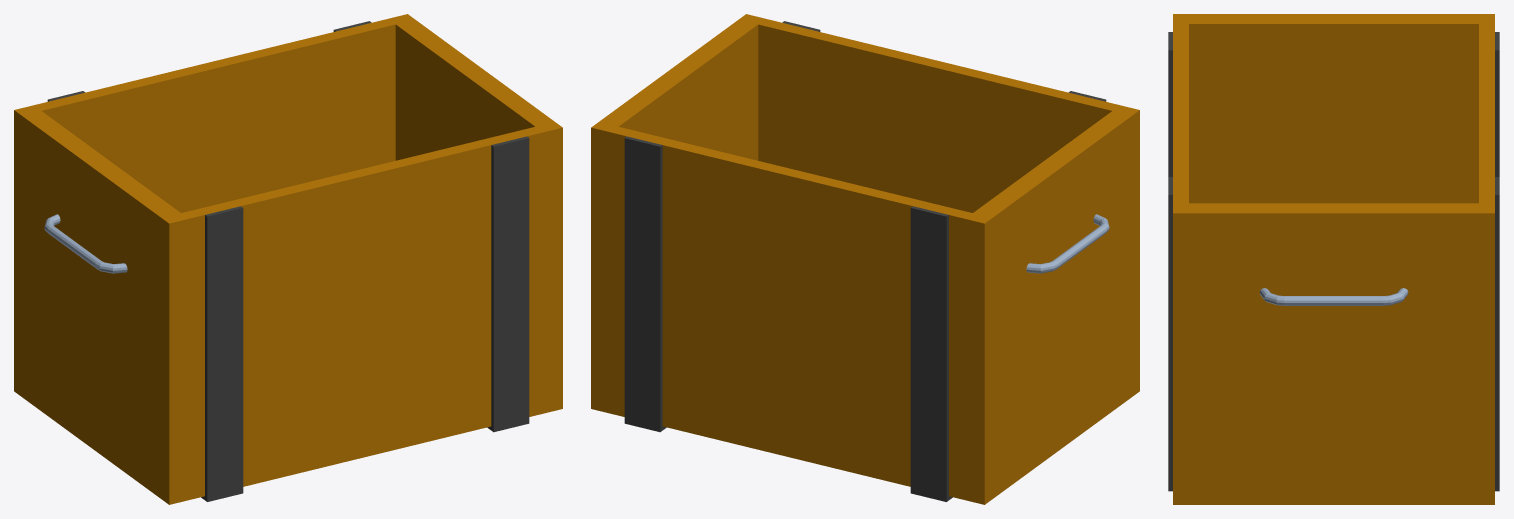
The model's file is pirate chest.fbx.
The picture shows the model from 3 angles, left to right: view 1: azimuth 30°, elevation 25°; view 2: azimuth 150°, elevation 25°; view 3: azimuth 270°, elevation 25°; orthographic projection. The views are drawn at different scales.
Visible parts, largest first — view 1: Chest; view 2: Chest; view 3: Chest.
Boxes of the visible parts, bbox=[...] form: Chest: bbox=[14, 14, 562, 504]; Chest: bbox=[591, 14, 1139, 504]; Chest: bbox=[1168, 14, 1499, 504].
Size of the model in its own units: 45.32 by 28.42 by 28.84.
